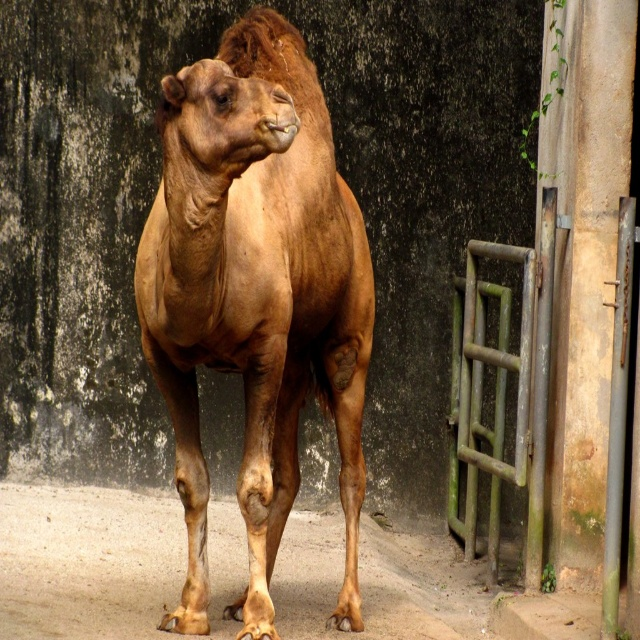Camel: (133, 1, 375, 639)
